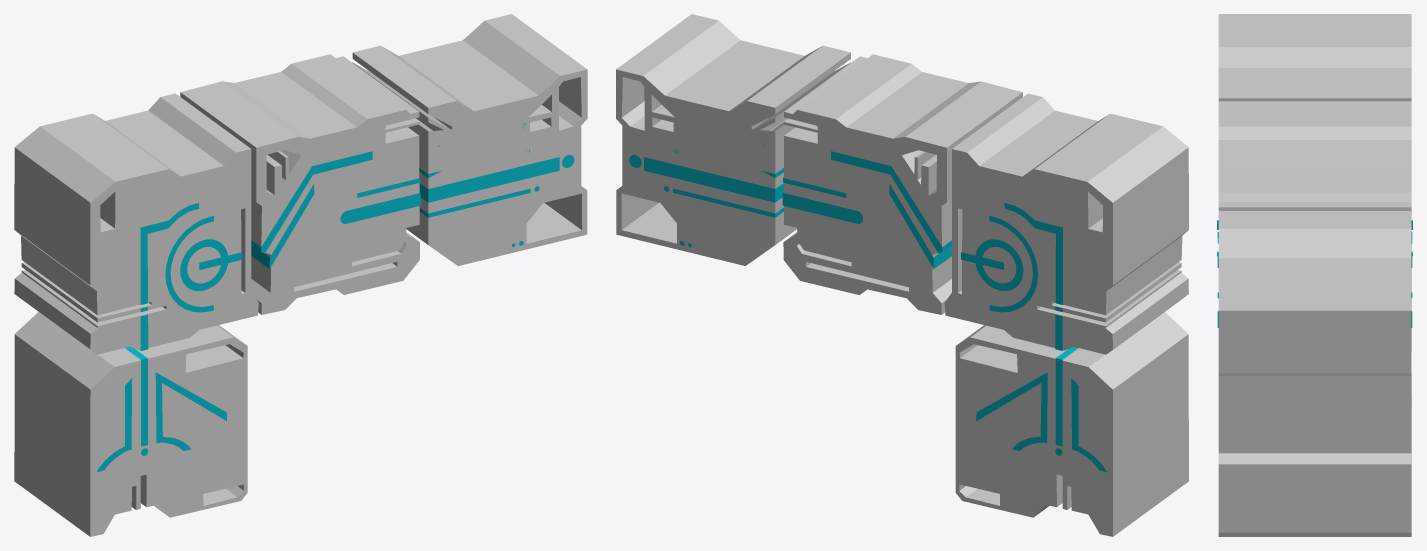
3 renders of one model, left to right at view 1: azimuth 30°, elevation 25°; view 2: azimuth 150°, elevation 25°; view 3: azimuth 270°, elevation 25°, orthographic. The views are drawn at different scales.
Visible parts, largest first — view 1: Plane.015; view 2: Plane.015; view 3: Plane.015.
Boxes of the visible parts, left/top/right/bottom form: Plane.015: left=14, top=14, right=587, bottom=536; Plane.015: left=616, top=14, right=1188, bottom=536; Plane.015: left=1217, top=14, right=1412, bottom=536.
Size of the model in its own units: 492 by 332 by 132.
